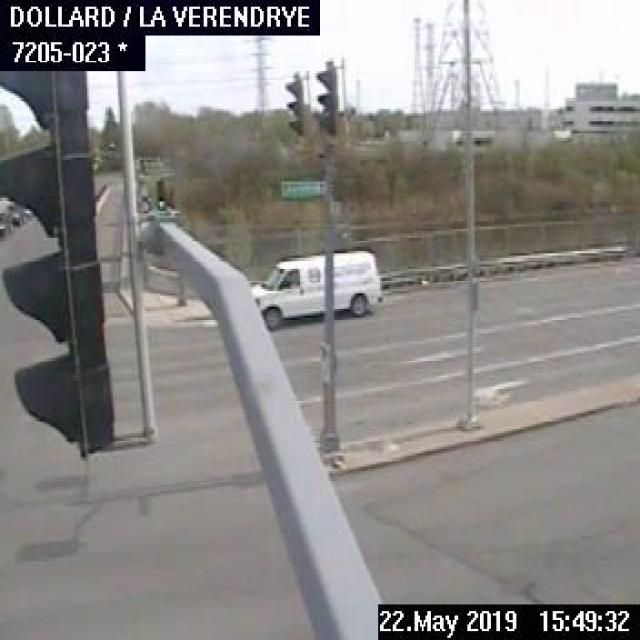vehicle: (248, 246, 383, 330), (6, 199, 34, 229), (0, 205, 15, 239)
